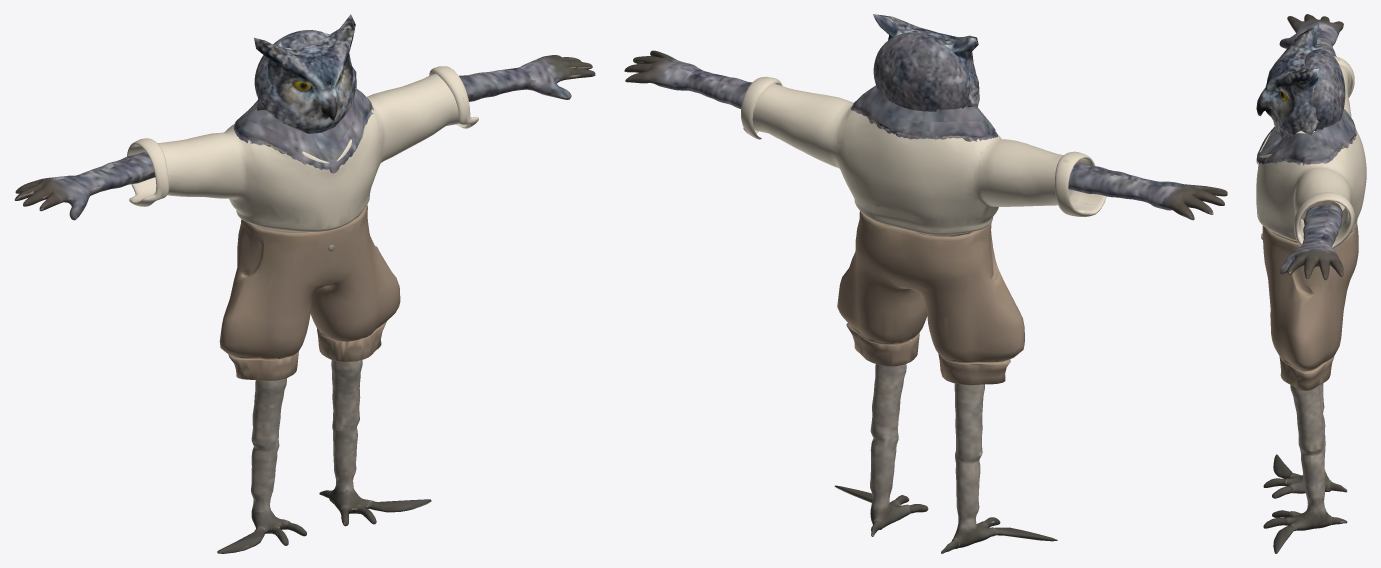
The model's file is owl_character.glb.
The picture shows the model from 3 angles, left to right: view 1: azimuth 30°, elevation 25°; view 2: azimuth 150°, elevation 25°; view 3: azimuth 270°, elevation 25°; orthographic projection. The views are drawn at different scales.
Visible parts, largest first — view 1: owl_jumper, owl_trousers, owl_feet, owl_head, owl_hands, owl_ruff; view 2: owl_jumper, owl_trousers, owl_feet, owl_head, owl_hands, owl_ruff; view 3: owl_trousers, owl_jumper, owl_head, owl_feet, owl_hands, owl_ruff.
Boxes of the visible parts, <box> form: owl_jumper: <box>127,66,478,232</box>; owl_trousers: <box>219,205,400,380</box>; owl_feet: <box>217,360,431,553</box>; owl_head: <box>254,14,356,133</box>; owl_hands: <box>14,55,595,220</box>; owl_ruff: <box>233,88,373,173</box>; owl_jumper: <box>741,76,1106,235</box>; owl_trousers: <box>837,211,1024,385</box>; owl_feet: <box>834,364,1057,553</box>; owl_head: <box>873,14,979,111</box>; owl_hands: <box>624,50,1227,220</box>; owl_ruff: <box>850,85,997,141</box>; owl_trousers: <box>1262,201,1358,390</box>; owl_jumper: <box>1256,56,1366,248</box>; owl_head: <box>1256,25,1345,138</box>; owl_feet: <box>1263,383,1347,553</box>; owl_hands: <box>1279,14,1343,280</box>; owl_ruff: <box>1256,109,1356,165</box>.
Size of the model in its own units: 1.33 by 1.1 by 0.2379.
1 material, 1 textured.
